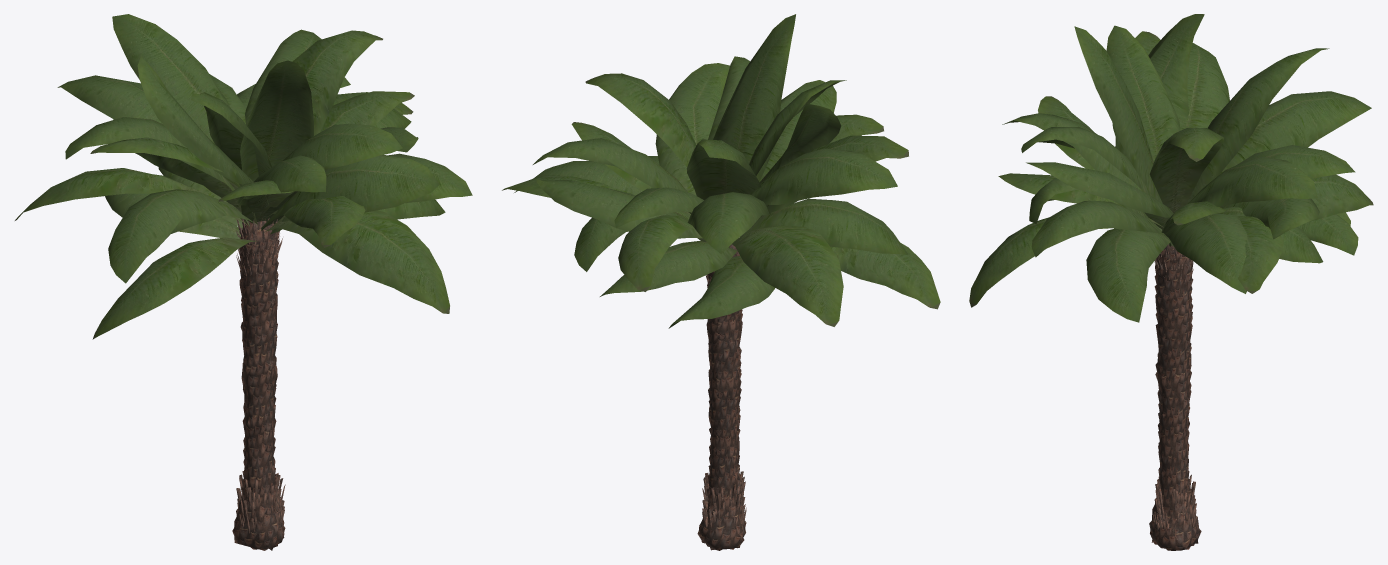
File: Tree_Fern_Large.glb
The picture shows the model from 3 angles, left to right: view 1: azimuth 30°, elevation 25°; view 2: azimuth 150°, elevation 25°; view 3: azimuth 270°, elevation 25°; orthographic projection. The views are drawn at different scales.
Parts seen in each view (by area): view 1: Tree Fern Large; view 2: Tree Fern Large; view 3: Tree Fern Large.
Part boxes in pixels (x1,y1,x2,y2): Tree Fern Large: [15, 14, 472, 550]; Tree Fern Large: [502, 14, 940, 550]; Tree Fern Large: [969, 14, 1373, 550].
Bounding box in the file's own units: 10.71 × 13.78 × 9.99.
2 materials, 2 textured.
